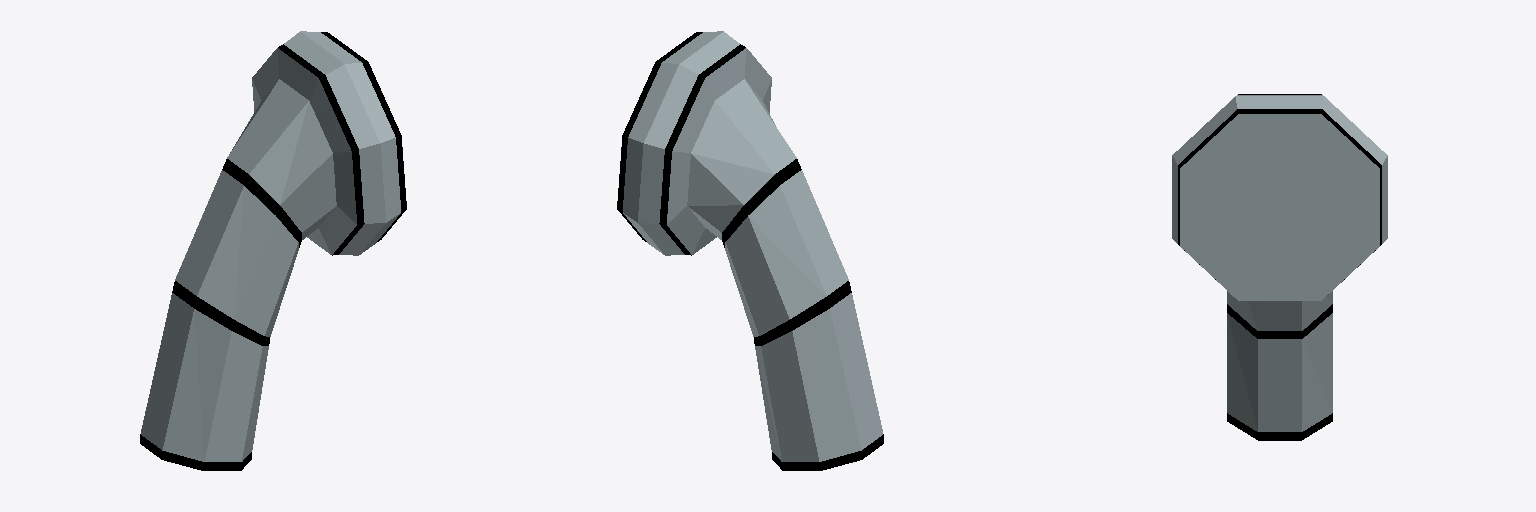
The picture shows the model from 3 angles: view 1: azimuth 30°, elevation 25°; view 2: azimuth 150°, elevation 25°; view 3: azimuth 270°, elevation 25°; orthographic projection.
Visible parts, largest first — view 1: brazo2_2; view 2: brazo2_2; view 3: brazo2_2.
Boxes of the visible parts, x1=… form: brazo2_2: x1=140, y1=31, x2=406, y2=470; brazo2_2: x1=617, y1=31, x2=883, y2=470; brazo2_2: x1=1172, y1=94, x2=1387, y2=440.
Size of the model in its own units: 0.3748 by 0.6553 by 0.3336.
Materials: 2 (1 with a texture image).